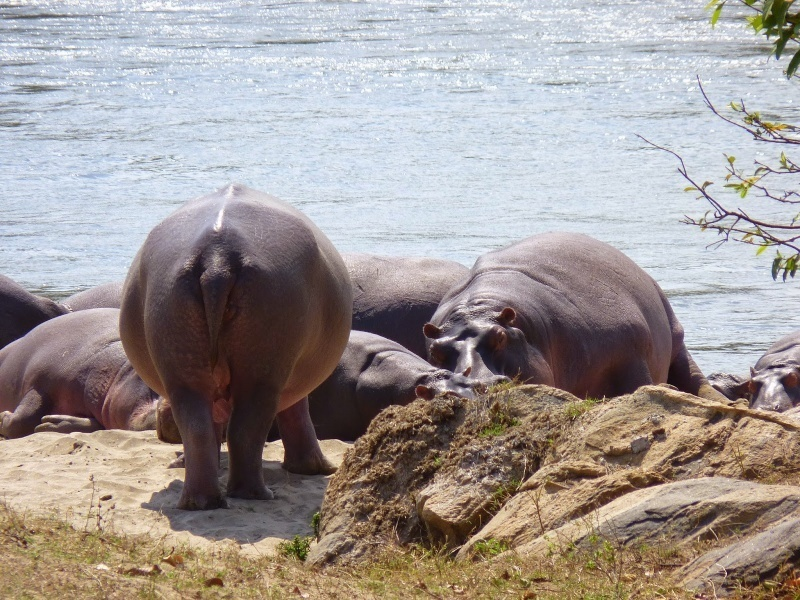hipopotamo: (109, 179, 352, 504), (420, 225, 713, 395), (1, 299, 175, 454)
